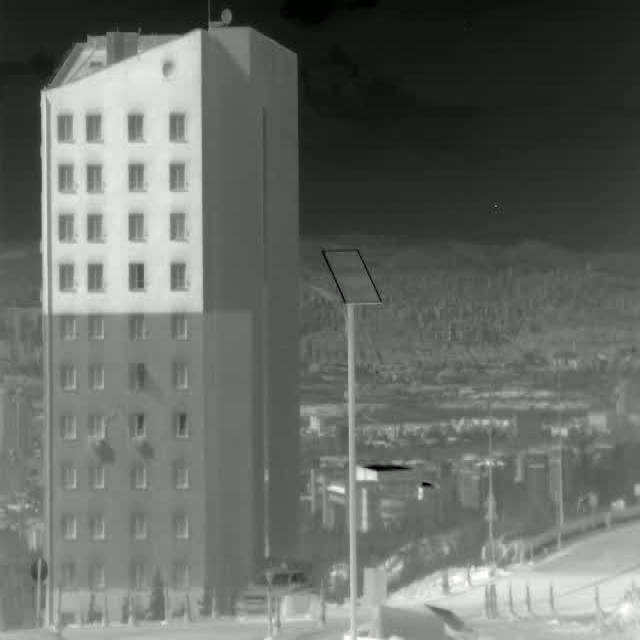Car: (232, 569, 310, 623)
